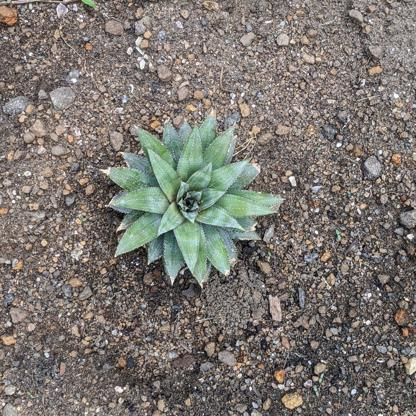pineapple: (100, 109, 284, 288)
